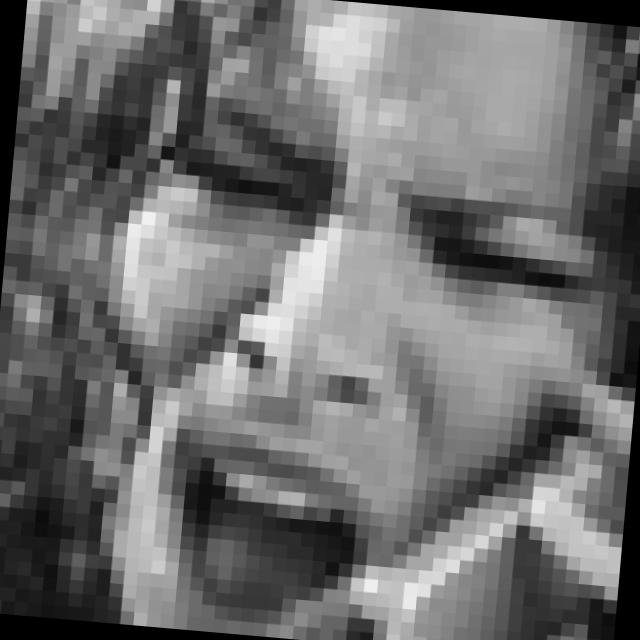angry: (110, 93, 611, 640)
